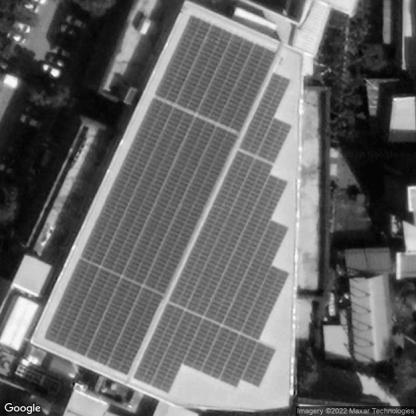solar-pv-panel: (45, 15, 275, 374), (134, 73, 293, 392)
